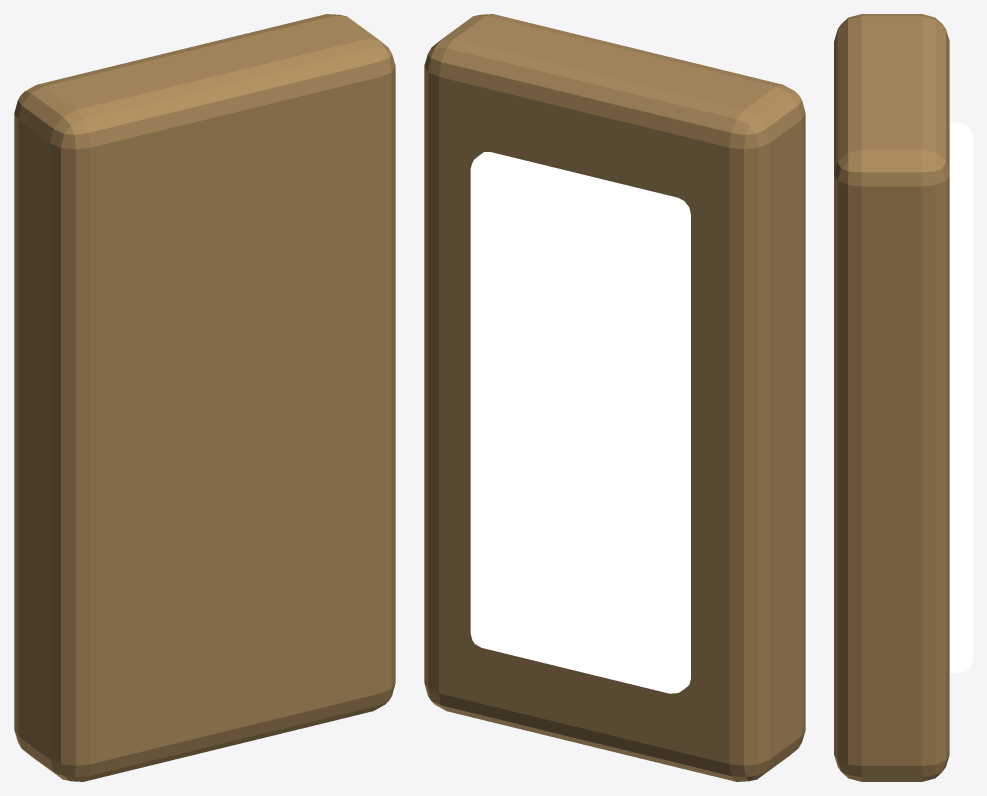
File: wall-light.glb
3 views of the same model, side by side, from view 1: azimuth 30°, elevation 25°; view 2: azimuth 150°, elevation 25°; view 3: azimuth 270°, elevation 25° (orthographic). The views are drawn at different scales.
Visible parts, largest first — view 1: wall_plate; view 2: wall_plate, wall_slot; view 3: wall_plate, wall_slot.
Part boxes in pixels (x1,y1,x2,y2): wall_plate: [14, 14, 395, 781]; wall_plate: [424, 14, 805, 781]; wall_slot: [470, 152, 690, 693]; wall_plate: [834, 14, 949, 781]; wall_slot: [949, 122, 972, 673].
Bounding box in the file's own units: 0.16 × 0.3 × 0.06.
